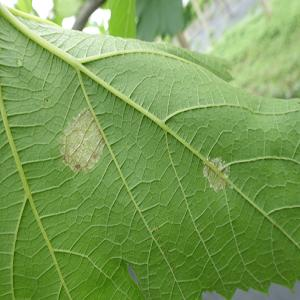Folha: (0, 3, 299, 299)
Fungo: (57, 106, 106, 176), (202, 155, 232, 193), (151, 225, 169, 254), (151, 225, 159, 233), (16, 57, 23, 66), (75, 162, 81, 170), (163, 247, 169, 254), (93, 153, 97, 161), (157, 234, 161, 240)
